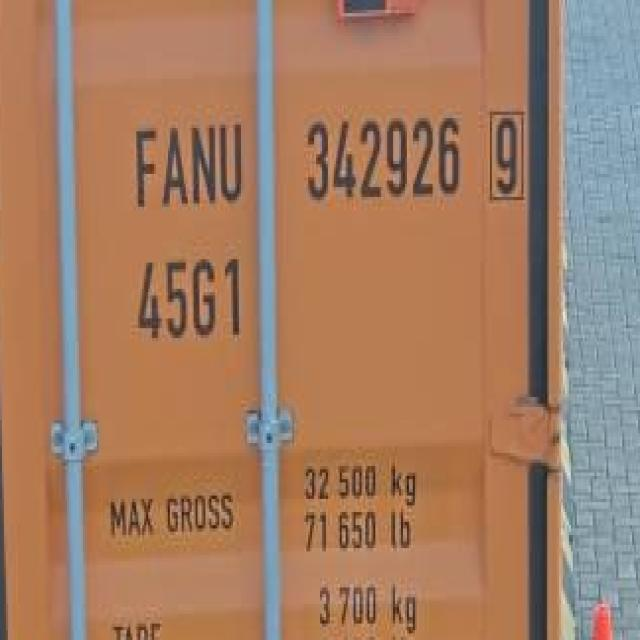dv: (484, 101, 531, 214)
owner: (123, 115, 249, 216)
serial: (294, 99, 469, 216)
size: (127, 249, 250, 353)
